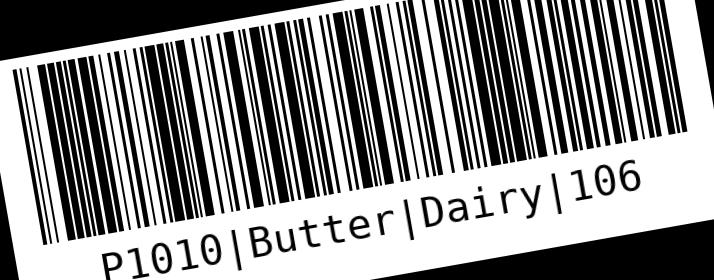milk: (6, 0, 713, 279)
